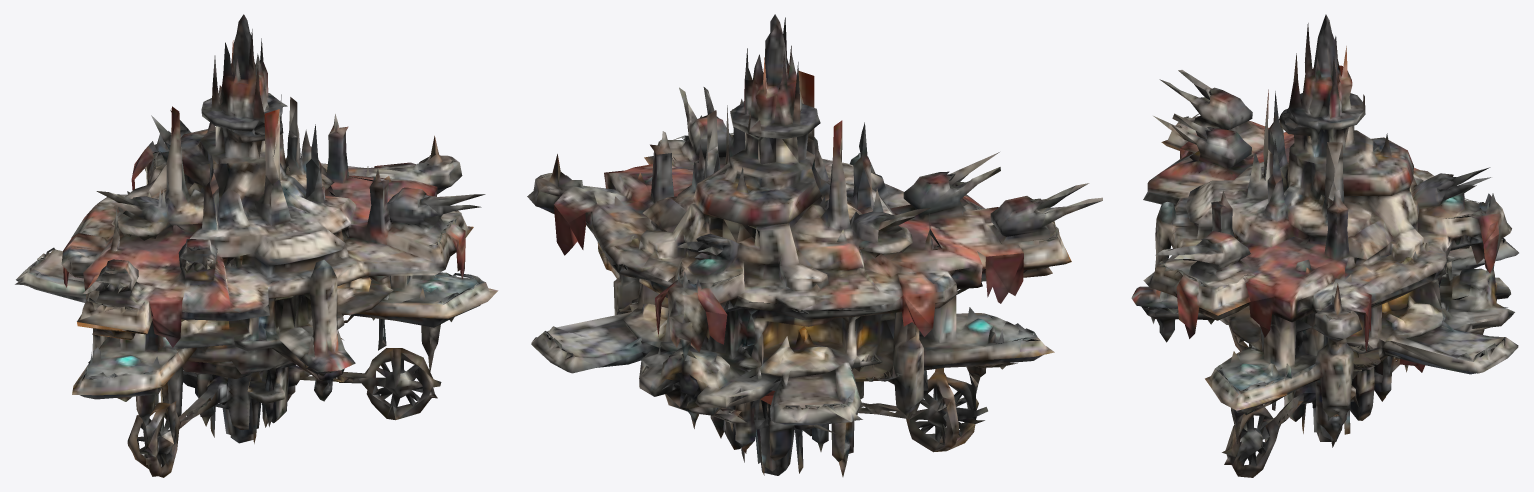
The model's file is HL_Station_Unclaimed_Military_retopo.glb.
The picture shows the model from 3 angles, left to right: view 1: azimuth 30°, elevation 25°; view 2: azimuth 150°, elevation 25°; view 3: azimuth 270°, elevation 25°; orthographic projection. The views are drawn at different scales.
Visible parts, largest first — view 1: HL_Station_Unclaimed_Military_retopo; view 2: HL_Station_Unclaimed_Military_retopo; view 3: HL_Station_Unclaimed_Military_retopo.
Boxes of the visible parts, x1,y1,x2,y2 form: HL_Station_Unclaimed_Military_retopo: (15,14,498,477); HL_Station_Unclaimed_Military_retopo: (527,14,1102,476); HL_Station_Unclaimed_Military_retopo: (1131,14,1518,477).
Size of the model in its own units: 0.9794 by 0.8746 by 0.7248.
1 material, 1 textured.
